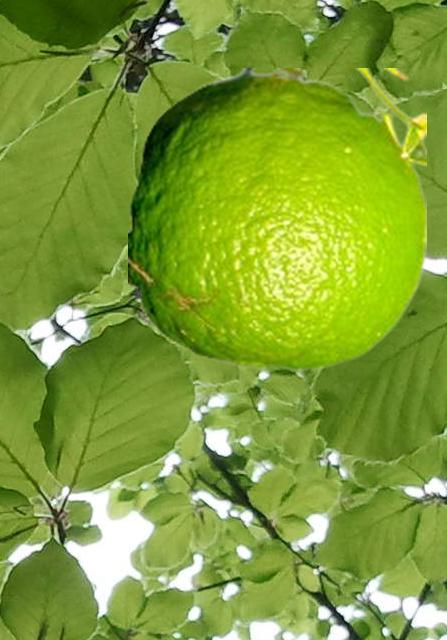dalandan: (128, 68, 425, 369)
